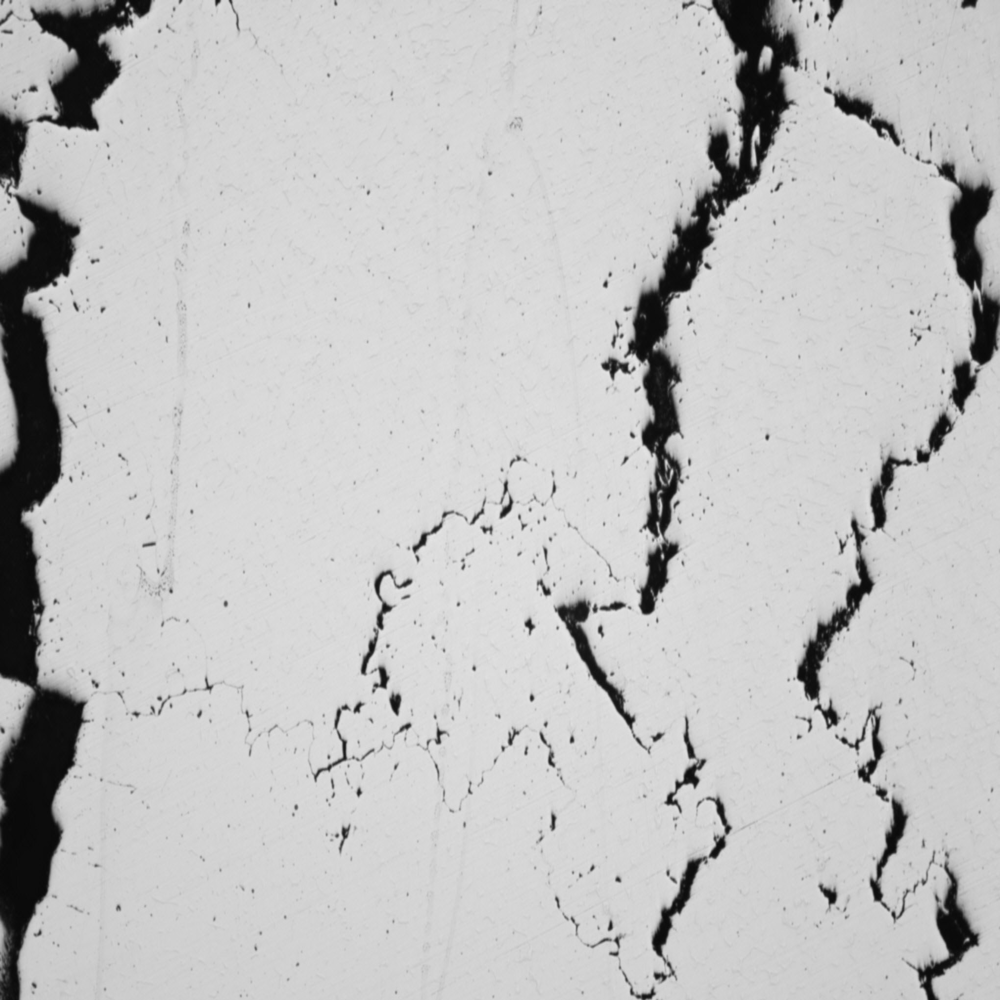crack: (579, 1, 803, 994), (797, 75, 1000, 985), (1, 9, 173, 994)
